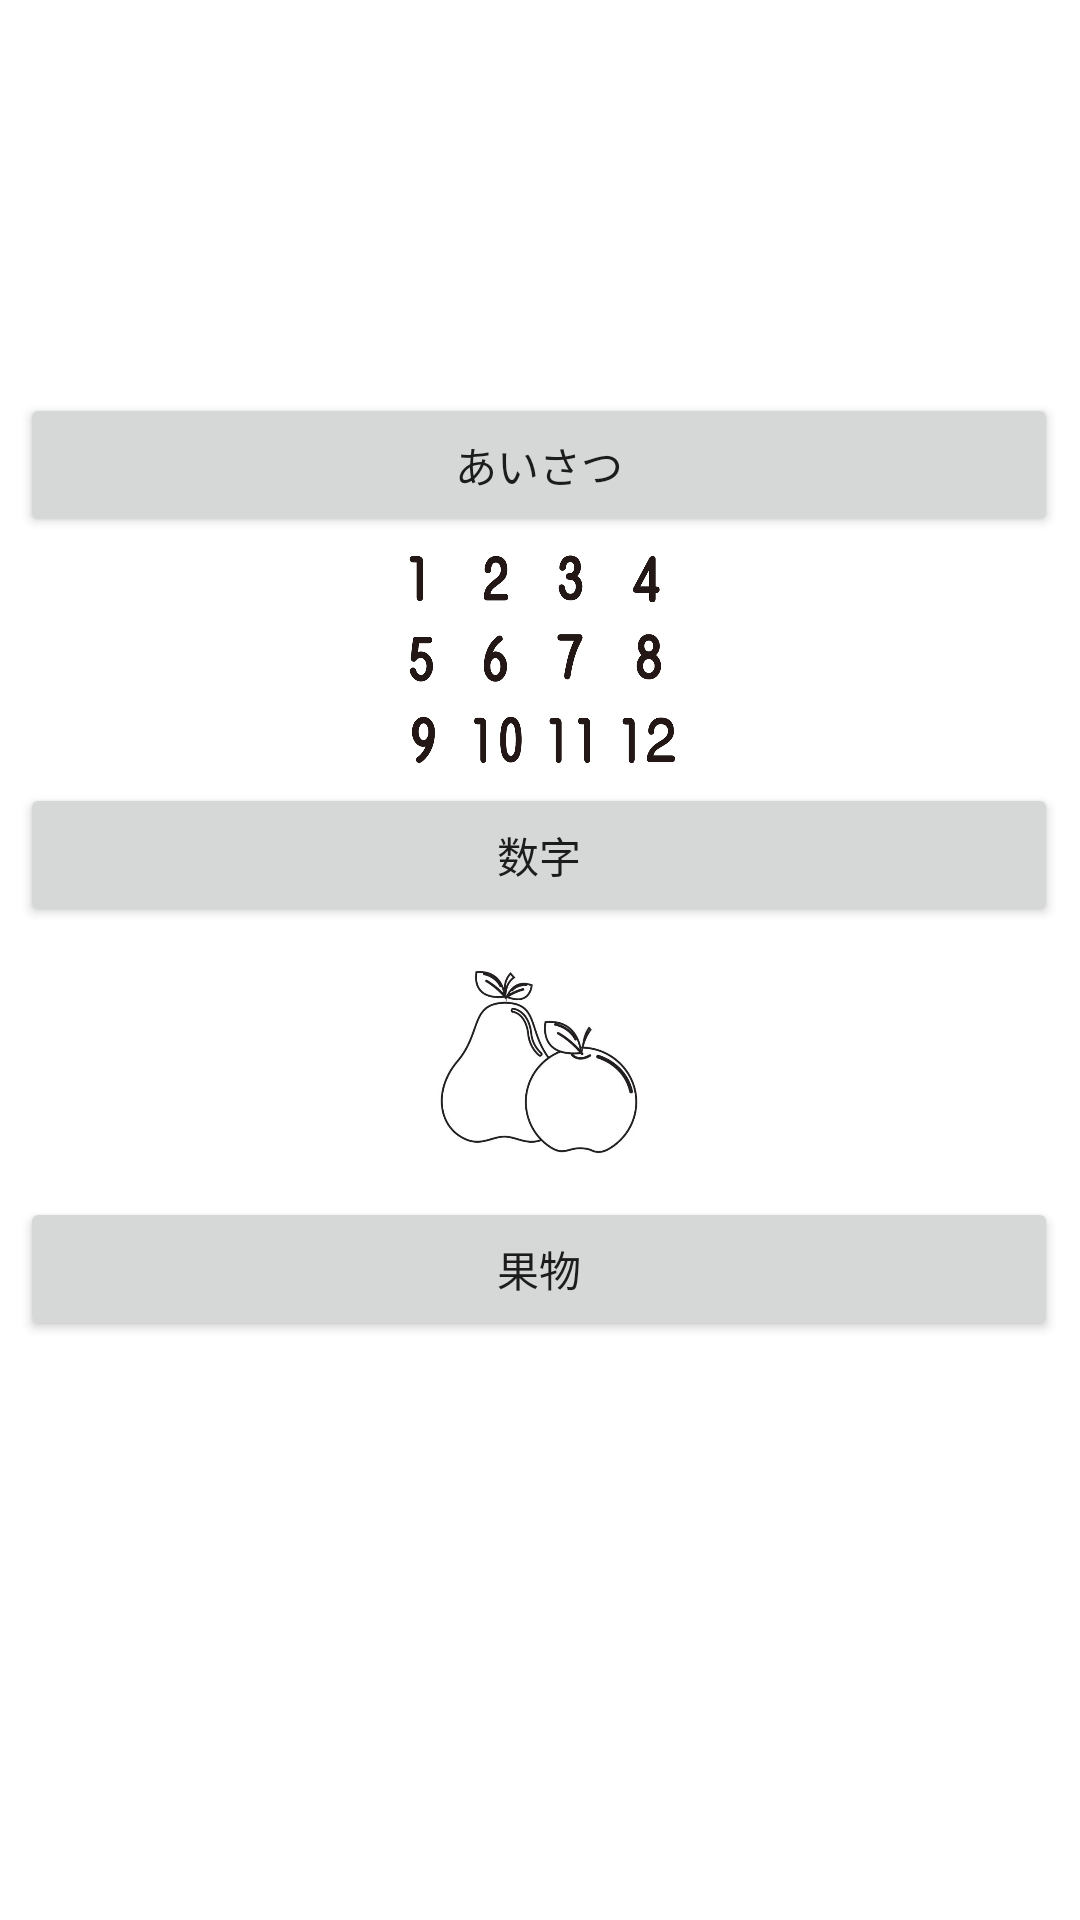

Named icons in this screenshot (1080 × 1920) and their centers, (x,y):
kudamono: (539,1062)
